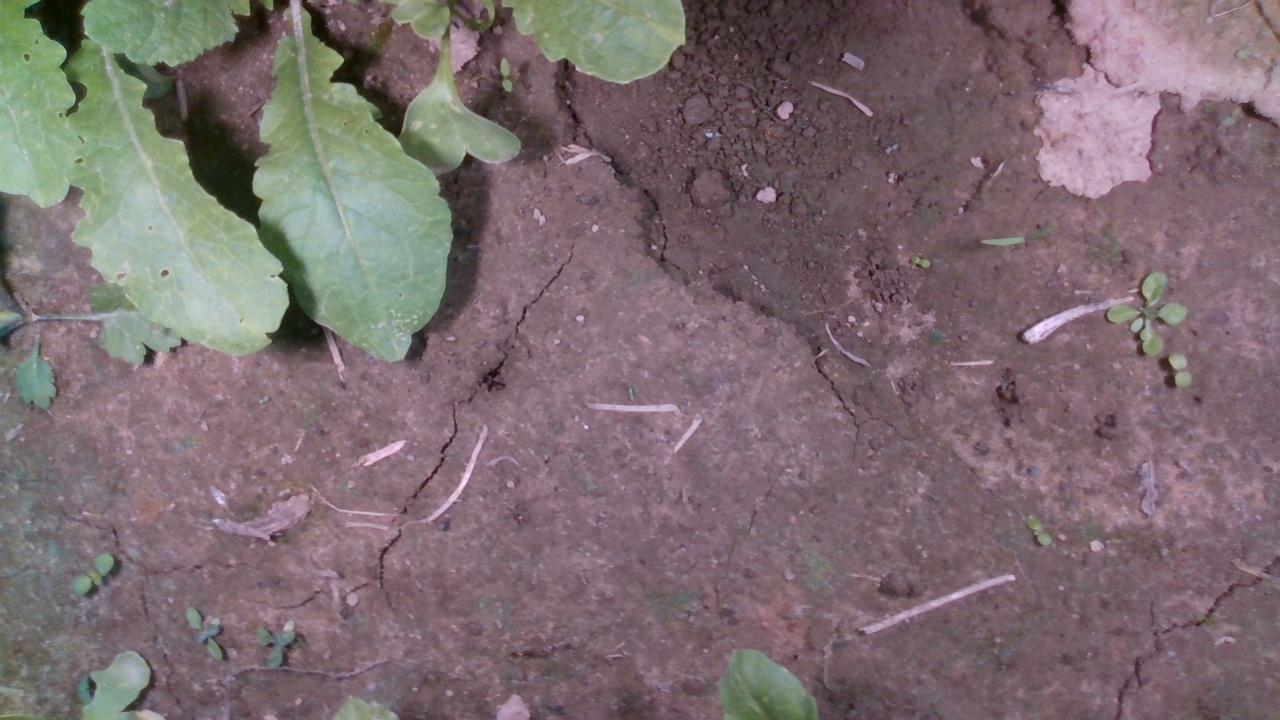weed: (183, 604, 223, 659), (252, 623, 297, 670), (71, 550, 113, 597), (1166, 349, 1193, 390), (1022, 513, 1052, 546), (496, 53, 513, 93), (908, 254, 932, 269)
